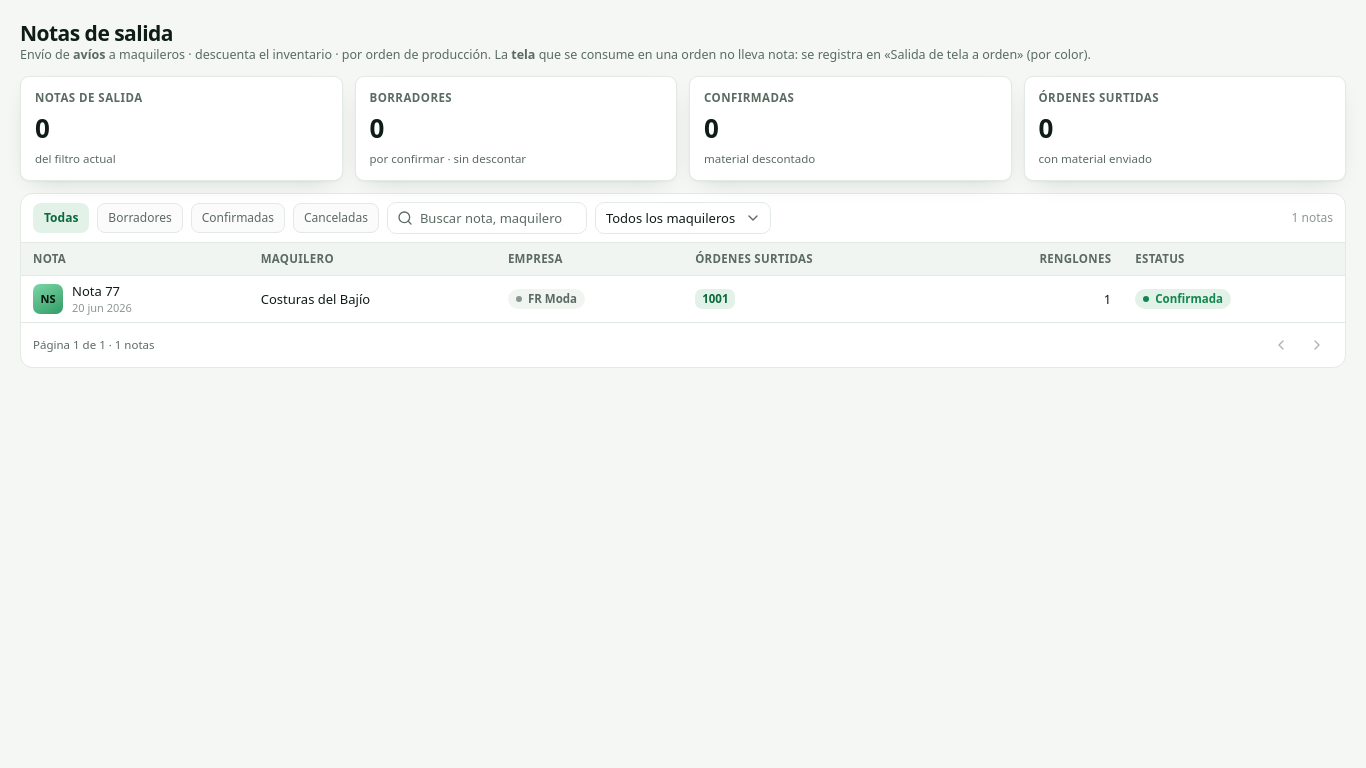
it: NotasSalidaPagina (F4-E5, re-vestida R9) › el renglón MIGRADO muestra su texto libre y dice que no tiene movimiento de inventario
The width and height of the screenshot is (1366, 768).
Click the row with test id "nota-fila" at (89, 291), box top-left (21, 275), bottom-right (1345, 322)
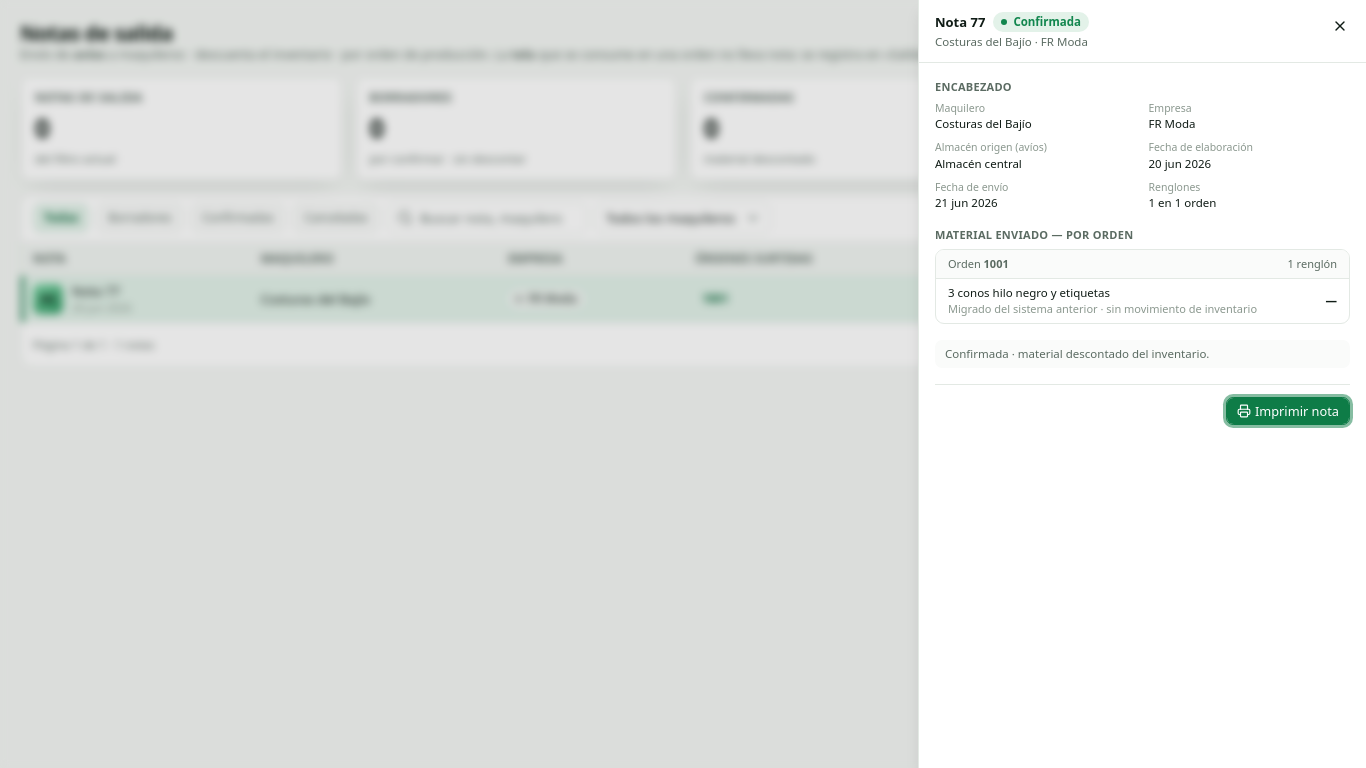
Now the element with test id "nota-renglon" shows "3 conos hilo negro y etiquetas", box top-left (948, 285), bottom-right (1110, 300)
Now the element with test id "nota-renglon" shows "Migrado del sistema anterior", box top-left (948, 301), bottom-right (1257, 316)
